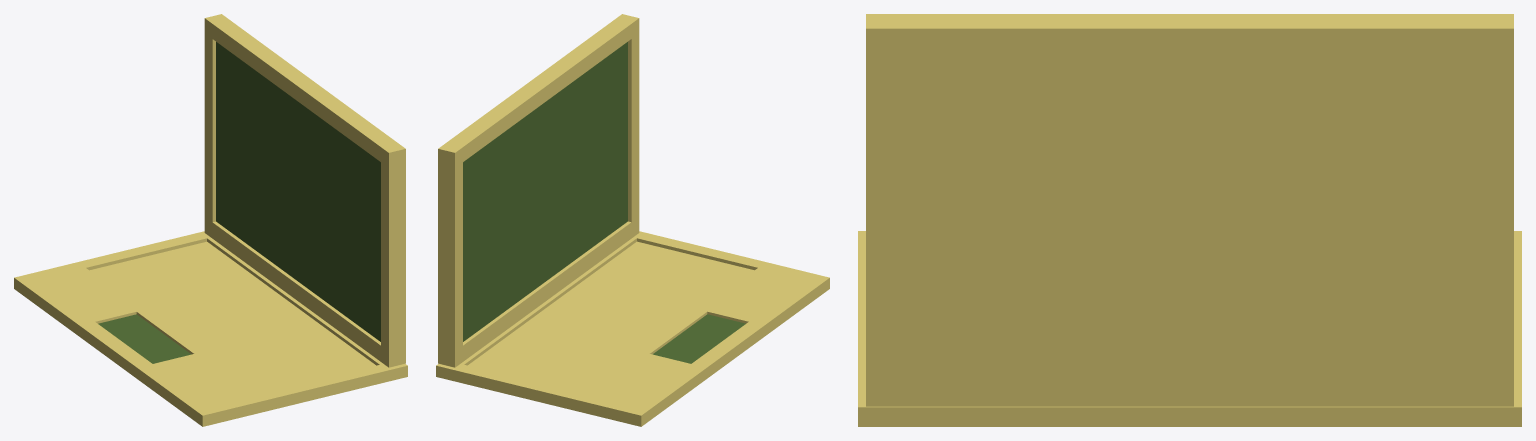
Rendered from Laptop_New.fbx.
3 renders of one model, left to right at view 1: azimuth 30°, elevation 25°; view 2: azimuth 150°, elevation 25°; view 3: azimuth 270°, elevation 25°, orthographic. The views are drawn at different scales.
Visible parts, largest first — view 1: Laptop; view 2: Laptop; view 3: Laptop.
Part boxes in pixels (x1,y1,x2,y2): Laptop: (14,14,407,426); Laptop: (436,14,829,426); Laptop: (858,14,1521,426).
Size of the model in its own units: 0.6382 by 0.6722 by 1.01.
